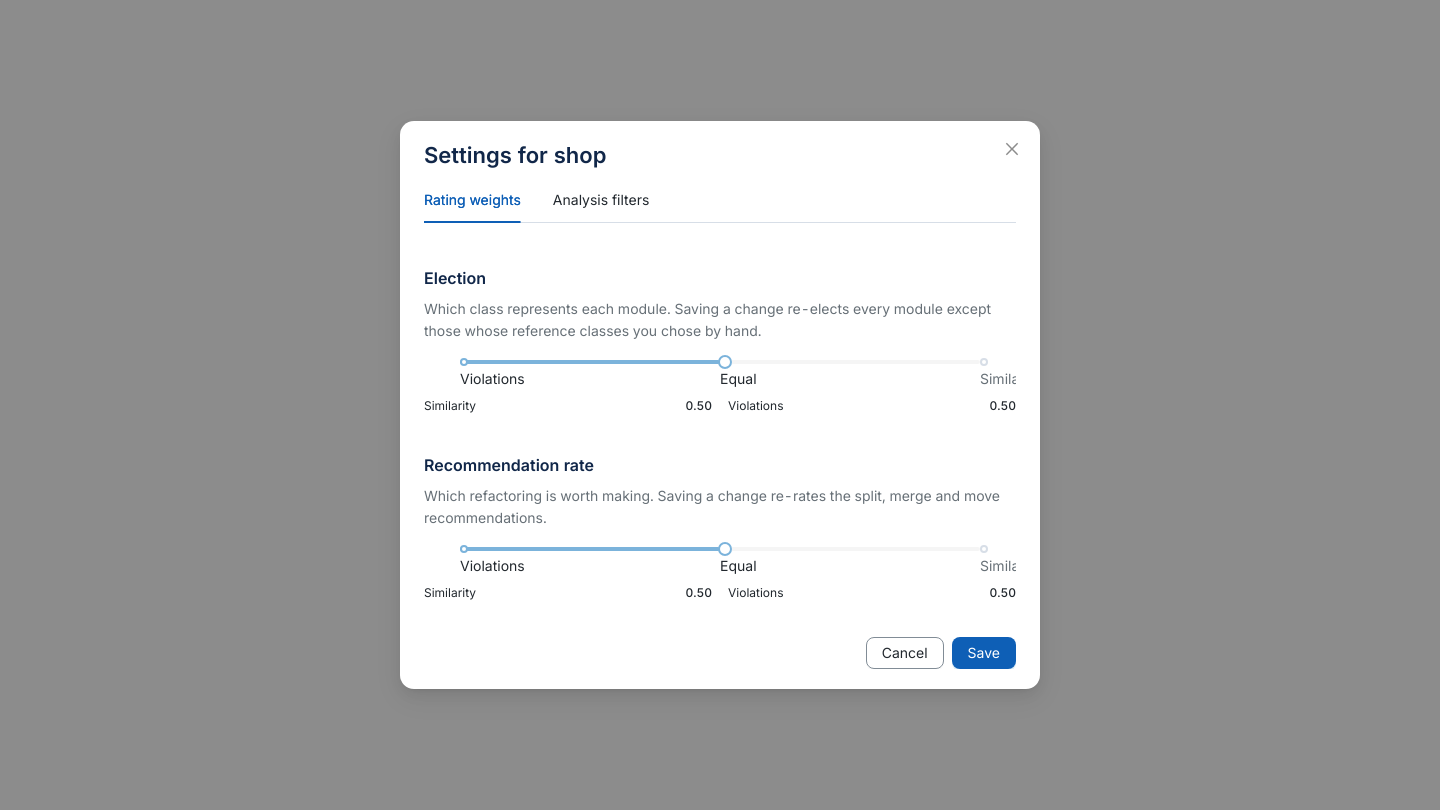
Test: SettingsModal › recommendations tab (#36) › says that violations are always shown
This screenshot has width=1440, height=810.
Click the tab "Analysis filters": point(601, 200) [553,189,649,211]
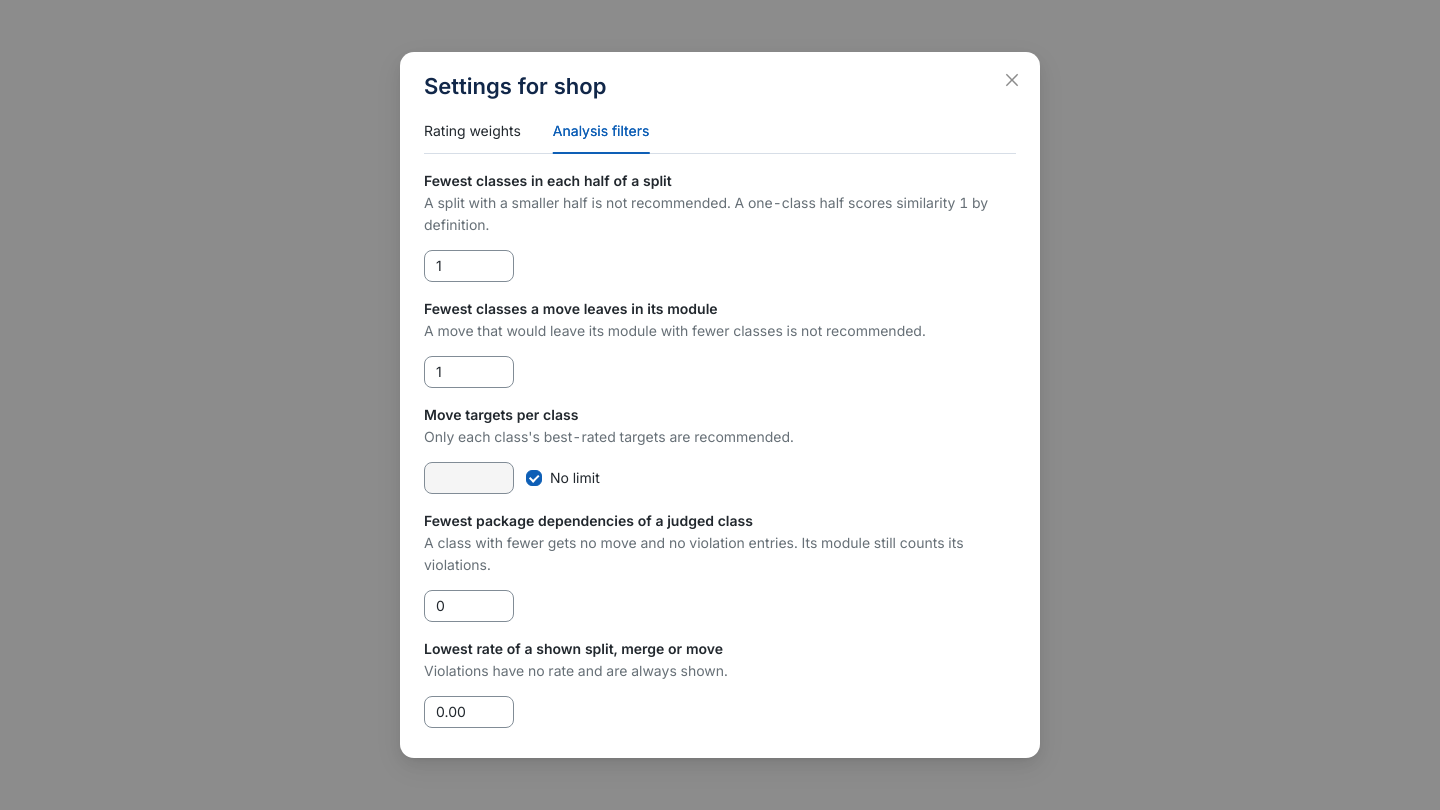
Result: the text "Violations have no rate and are always shown." is shown at [424,662,728,679]
